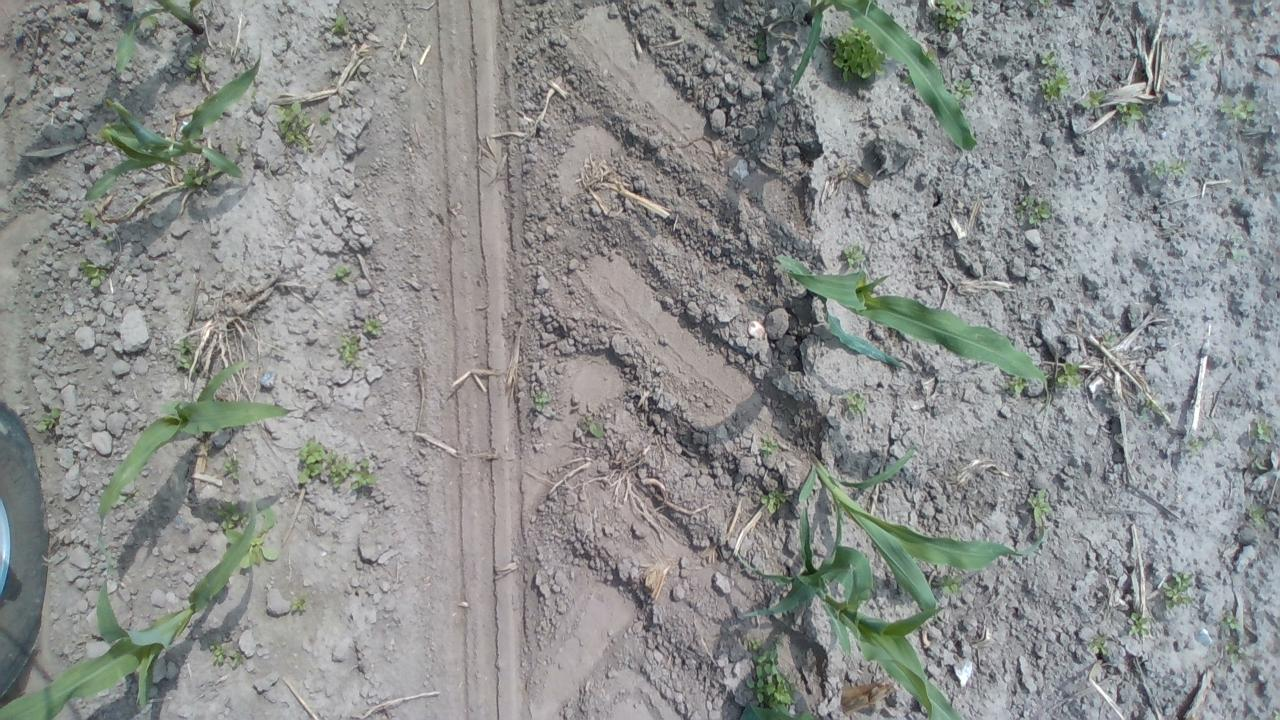Maize: (0, 494, 257, 716), (796, 439, 1045, 658), (736, 506, 970, 720), (774, 246, 1053, 418), (94, 361, 300, 568), (786, 0, 976, 156), (84, 43, 262, 204), (109, 0, 208, 79)
Weeds: (296, 437, 384, 498), (743, 637, 800, 715), (825, 23, 888, 82), (238, 503, 280, 570), (273, 101, 315, 152), (207, 497, 250, 531), (1012, 194, 1056, 226), (1160, 572, 1195, 610), (935, 0, 974, 34), (206, 638, 247, 669), (334, 331, 366, 369), (1038, 68, 1072, 102), (1220, 95, 1259, 123), (1027, 488, 1053, 528), (758, 486, 791, 514), (78, 258, 108, 288), (32, 406, 63, 433), (183, 160, 210, 190), (178, 336, 198, 376), (183, 50, 210, 78), (1056, 362, 1084, 389), (1116, 100, 1144, 127), (1222, 640, 1250, 666), (1150, 159, 1188, 177), (840, 243, 867, 268), (950, 76, 977, 101), (1186, 41, 1214, 64), (1128, 612, 1150, 638), (1246, 502, 1266, 530), (938, 573, 962, 596), (222, 453, 241, 482), (758, 430, 779, 456), (1256, 414, 1274, 444), (921, 46, 942, 71), (844, 392, 866, 415), (1080, 89, 1104, 110), (328, 262, 352, 283), (748, 36, 768, 61), (533, 389, 553, 414), (1087, 634, 1109, 656), (330, 14, 353, 35), (80, 206, 100, 230), (289, 591, 309, 612), (1008, 374, 1028, 395), (361, 318, 382, 338), (1224, 610, 1242, 633), (1139, 393, 1160, 412), (1038, 47, 1060, 64), (588, 420, 606, 438), (1186, 439, 1206, 454), (96, 234, 114, 248), (1100, 332, 1118, 346), (319, 110, 329, 126), (1252, 459, 1266, 470), (1038, 0, 1054, 8), (1272, 709, 1280, 720), (234, 142, 241, 150), (128, 208, 132, 212)
